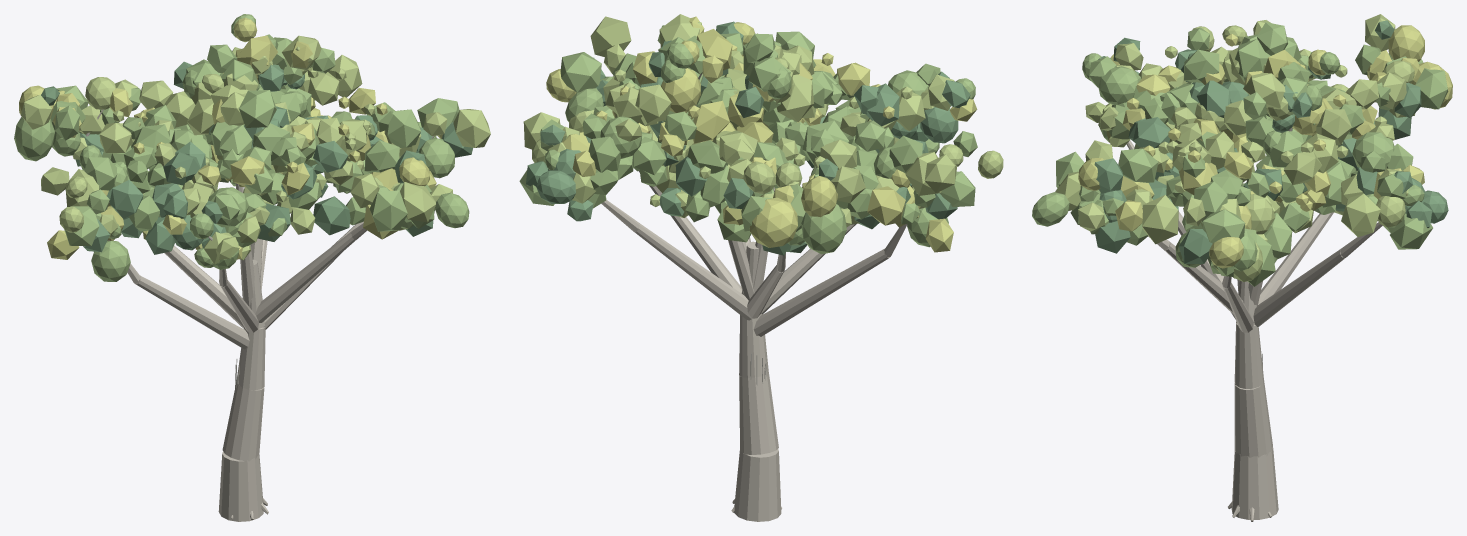
The model's file is cottonwood.glb.
The picture shows the model from 3 angles, left to right: view 1: azimuth 30°, elevation 25°; view 2: azimuth 150°, elevation 25°; view 3: azimuth 270°, elevation 25°; orthographic projection. The views are drawn at different scales.
Parts seen in each view (by area): view 1: cottonwood summer green combined, cottonwood lime tips combined, cottonwood warm gray bark combined, cottonwood deep green combined, cottonwood sunlit leaves combined; view 2: cottonwood summer green combined, cottonwood lime tips combined, cottonwood warm gray bark combined, cottonwood sunlit leaves combined, cottonwood deep green combined; view 3: cottonwood summer green combined, cottonwood lime tips combined, cottonwood warm gray bark combined, cottonwood sunlit leaves combined, cottonwood deep green combined.
Boxes of the visible parts, x1,y1,x2,y2 form: cottonwood summer green combined: (14,14,469,281); cottonwood lime tips combined: (20,35,490,264); cottonwood warm gray bark combined: (85,109,434,521); cottonwood deep green combined: (41,42,472,254); cottonwood sunlit leaves combined: (19,17,442,259); cottonwood summer green combined: (519,25,977,254); cottonwood lime tips combined: (523,14,1003,227); cottonwood warm gray bark combined: (601,73,907,521); cottonwood sunlit leaves combined: (546,16,977,252); cottonwood deep green combined: (526,21,970,255); cottonwood summer green combined: (1032,22,1448,286); cottonwood lime tips combined: (1055,14,1415,281); cottonwood warm gray bark combined: (1126,127,1382,521); cottonwood sunlit leaves combined: (1078,25,1452,268); cottonwood deep green combined: (1094,20,1448,263).
Size of the model in its own units: 14.06 by 14.85 by 11.81.
